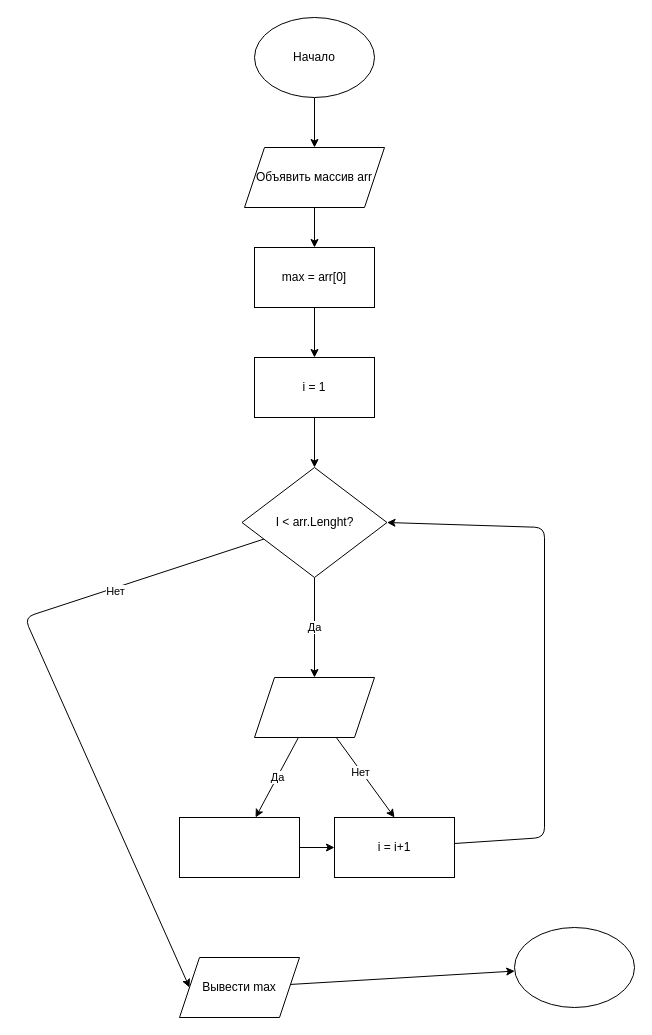
This 652x1035 diagram has some shape labels left out. Each missing label, with the box of its shape:
arr[i] > max?: (254, 676, 374, 738)
max = arr[i]: (178, 816, 300, 878)
Конец: (514, 926, 634, 1008)
